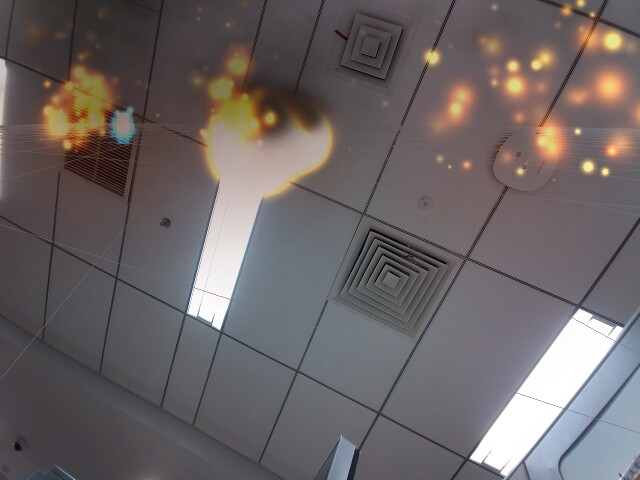fire: (201, 97, 299, 198), (259, 92, 334, 179)
